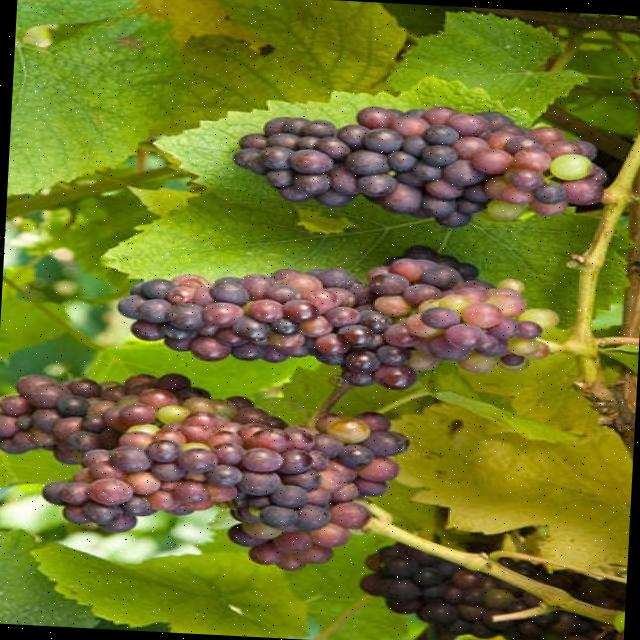grape: (0, 373, 411, 568), (121, 245, 556, 388), (237, 106, 608, 226), (363, 543, 620, 640), (514, 560, 627, 607)
